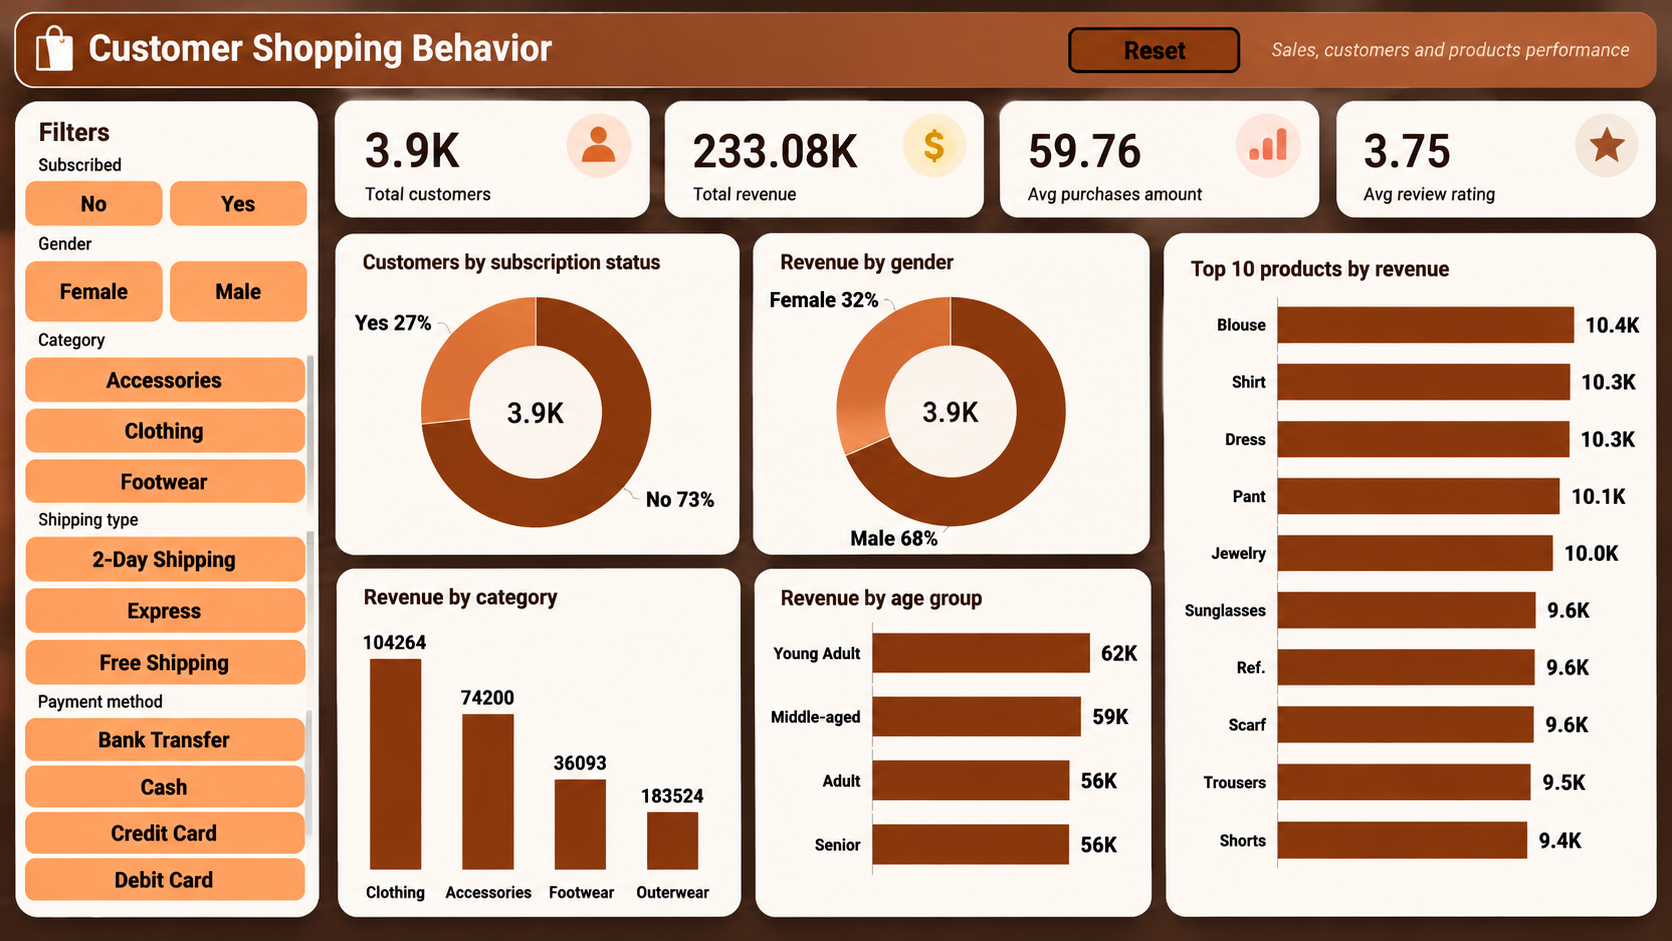

What the dashboard file says about the page in this screenshot:
{"tool":"powerbi","page":{"name":"Page 1","canvas":[1920,1080],"ordinal":0},"visuals":[{"type":"cardVisual","fields":{"Data":["CUSTOMER_SHOPPING_BEHAVIOR (2).Total_Customers"]},"box":[354.7,93.5,266,198.9],"z":0},{"type":"cardVisual","fields":{"Data":["CUSTOMER_SHOPPING_BEHAVIOR (2).Avg Review rating"]},"box":[1490.6,88.7,266,198.9],"z":1000},{"type":"cardVisual","fields":{"Data":["CUSTOMER_SHOPPING_BEHAVIOR (2).Avg purchase Amount"]},"box":[1124,91.1,266,198.9],"z":2000},{"type":"cardVisual","fields":{"Data":["CUSTOMER_SHOPPING_BEHAVIOR (2).Total Revenue"]},"box":[764.5,93.5,266,198.9],"z":3000},{"type":"donutChart","fields":{"Category":["CUSTOMER_SHOPPING_BEHAVIOR (2).GENDER"],"Y":["CUSTOMER_SHOPPING_BEHAVIOR (2).Total Customers"]},"box":[850.8,287.6,491.3,409.8],"z":3001},{"type":"donutChart","fields":{"Category":["CUSTOMER_SHOPPING_BEHAVIOR (2).SUBSCRIPTION_STATUS"],"Y":["CUSTOMER_SHOPPING_BEHAVIOR (2).Total Customers"]},"box":[381,287.6,479.3,409.8],"z":3002},{"type":"clusteredColumnChart","fields":{"Category":["CUSTOMER_SHOPPING_BEHAVIOR (2).CATEGORY"],"Y":["CUSTOMER_SHOPPING_BEHAVIOR (2).Total Revenue"]},"box":[376.3,716.6,486.5,352.3],"z":3003},{"type":"clusteredBarChart","fields":{"Category":["CUSTOMER_SHOPPING_BEHAVIOR (2).AGE_GROUP"],"Y":["CUSTOMER_SHOPPING_BEHAVIOR (2).Total Revenue"]},"box":[862.7,690.2,469.7,390.6],"z":3004},{"type":"clusteredBarChart","fields":{"Category":["CUSTOMER_SHOPPING_BEHAVIOR (2).ITEM_PURCHASED"],"Y":["CUSTOMER_SHOPPING_BEHAVIOR (2).Total Revenue"]},"box":[1342,318.7,553.6,750.1],"z":3005},{"type":"advancedSlicerVisual","fields":{"Values":["CUSTOMER_SHOPPING_BEHAVIOR (2).SUBSCRIPTION_STATUS"]},"box":[35.9,213.3,318.7,47.9],"z":3006},{"type":"advancedSlicerVisual","fields":{"Values":["CUSTOMER_SHOPPING_BEHAVIOR (2).GENDER"]},"box":[35.9,292.4,318.7,74.3],"z":3007},{"type":"advancedSlicerVisual","fields":{"Values":["CUSTOMER_SHOPPING_BEHAVIOR (2).CATEGORY"]},"box":[35.9,407.4,328.3,172.5],"z":3008},{"type":"advancedSlicerVisual","fields":{"Values":["CUSTOMER_SHOPPING_BEHAVIOR (2).SHIPPING_TYPE"]},"box":[35.9,613.5,328.3,179.7],"z":3009},{"type":"advancedSlicerVisual","fields":{"Values":["CUSTOMER_SHOPPING_BEHAVIOR (2).PAYMENT_METHOD"]},"box":[31.2,824.4,328.3,208.5],"z":3010},{"type":"actionButton","box":[1241.4,35.9,201.3,52.7],"z":3011}]}

Visuals, with their boxes in screenshot pixels (x1, y1, x2, y2), scaled from the page's 1920x1080 canvas onto the 1672x941 screenshot:
cardVisual - CUSTOMER_SHOPPING_BEHAVIOR (2).Total_Customers: (309,81,541,255)
cardVisual - CUSTOMER_SHOPPING_BEHAVIOR (2).Avg Review rating: (1298,77,1530,251)
cardVisual - CUSTOMER_SHOPPING_BEHAVIOR (2).Avg purchase Amount: (979,79,1210,253)
cardVisual - CUSTOMER_SHOPPING_BEHAVIOR (2).Total Revenue: (666,81,897,255)
donutChart - CUSTOMER_SHOPPING_BEHAVIOR (2).GENDER x CUSTOMER_SHOPPING_BEHAVIOR (2).Total Customers: (741,251,1169,608)
donutChart - CUSTOMER_SHOPPING_BEHAVIOR (2).SUBSCRIPTION_STATUS x CUSTOMER_SHOPPING_BEHAVIOR (2).Total Customers: (332,251,749,608)
clusteredColumnChart - CUSTOMER_SHOPPING_BEHAVIOR (2).CATEGORY x CUSTOMER_SHOPPING_BEHAVIOR (2).Total Revenue: (328,624,751,931)
clusteredBarChart - CUSTOMER_SHOPPING_BEHAVIOR (2).AGE_GROUP x CUSTOMER_SHOPPING_BEHAVIOR (2).Total Revenue: (751,601,1160,940)
clusteredBarChart - CUSTOMER_SHOPPING_BEHAVIOR (2).ITEM_PURCHASED x CUSTOMER_SHOPPING_BEHAVIOR (2).Total Revenue: (1169,278,1651,931)
advancedSlicerVisual - CUSTOMER_SHOPPING_BEHAVIOR (2).SUBSCRIPTION_STATUS: (31,186,309,228)
advancedSlicerVisual - CUSTOMER_SHOPPING_BEHAVIOR (2).GENDER: (31,255,309,320)
advancedSlicerVisual - CUSTOMER_SHOPPING_BEHAVIOR (2).CATEGORY: (31,355,317,505)
advancedSlicerVisual - CUSTOMER_SHOPPING_BEHAVIOR (2).SHIPPING_TYPE: (31,535,317,691)
advancedSlicerVisual - CUSTOMER_SHOPPING_BEHAVIOR (2).PAYMENT_METHOD: (27,718,313,900)
actionButton: (1081,31,1256,77)
